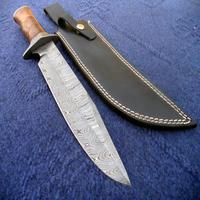knife: (11, 6, 133, 188)
